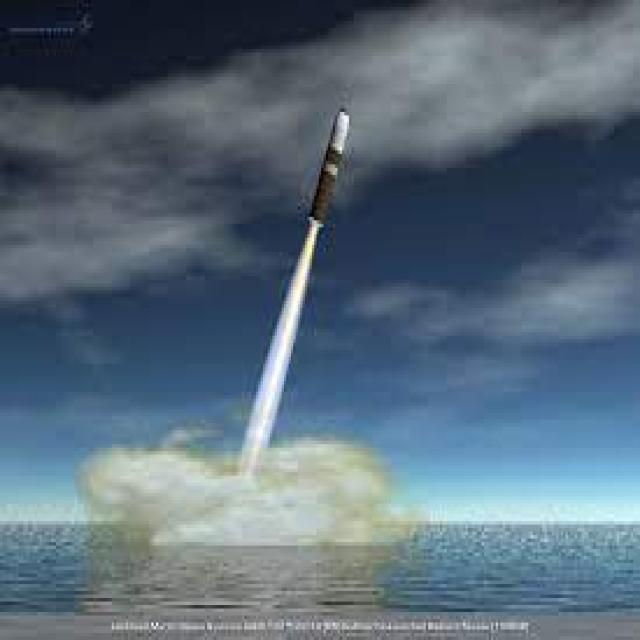missile: (306, 103, 351, 229)
